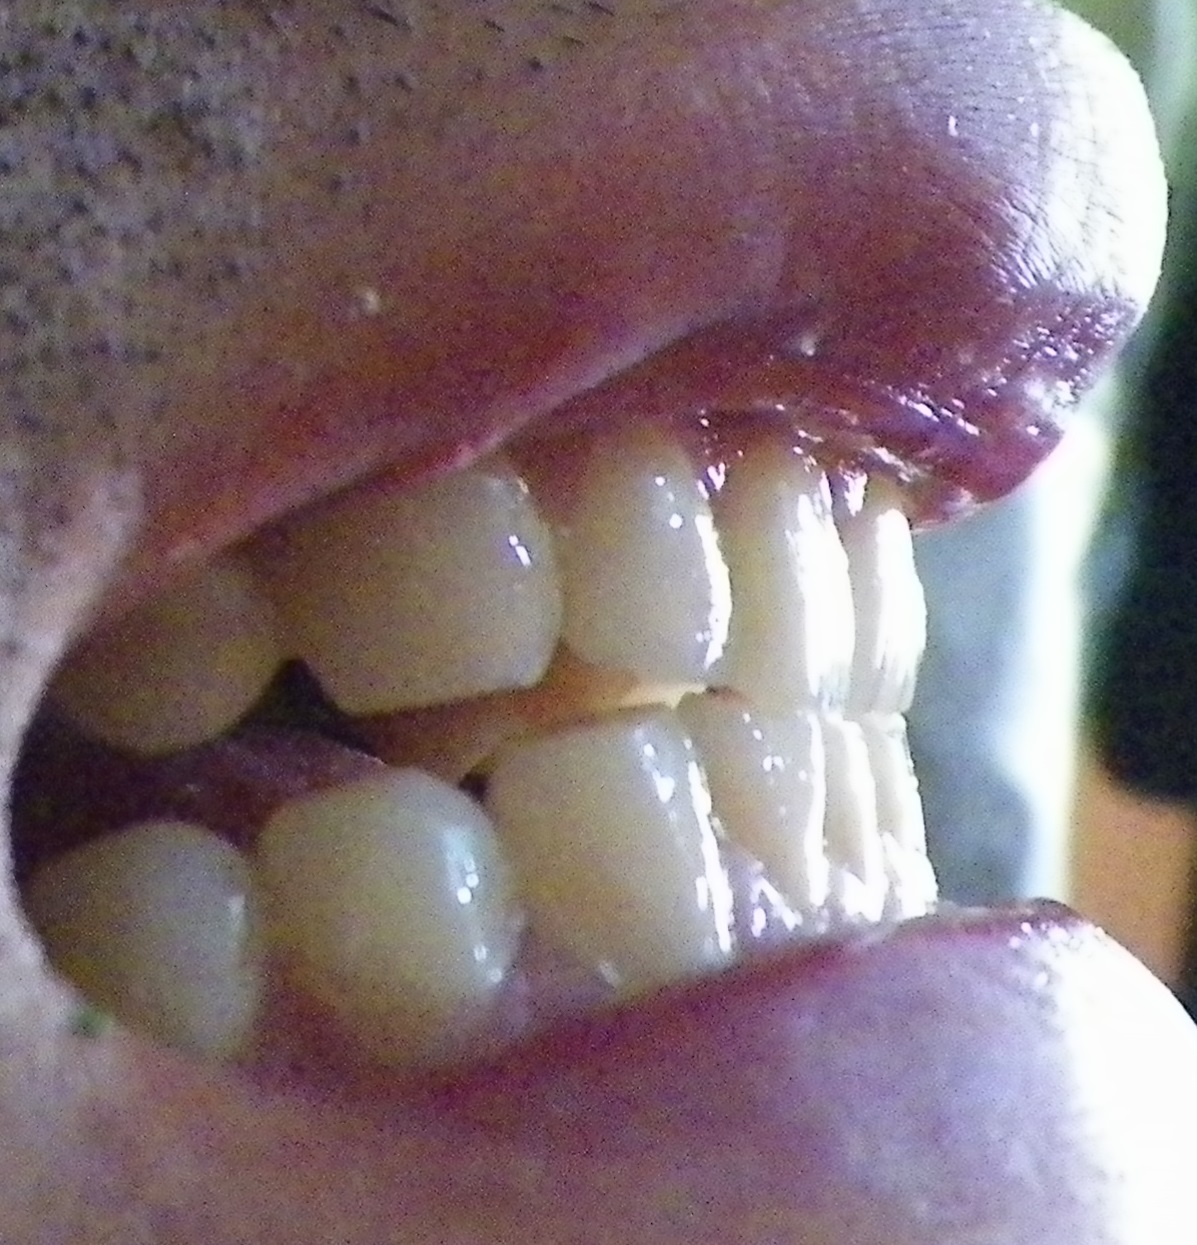boca: (66, 448, 930, 1039)
